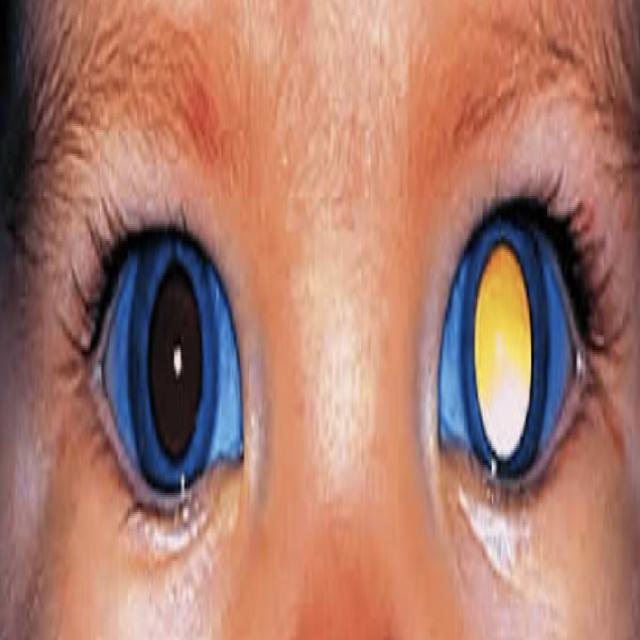reflexo-alterado: (458, 162, 554, 530)
reflexo-normal: (121, 232, 207, 540)
